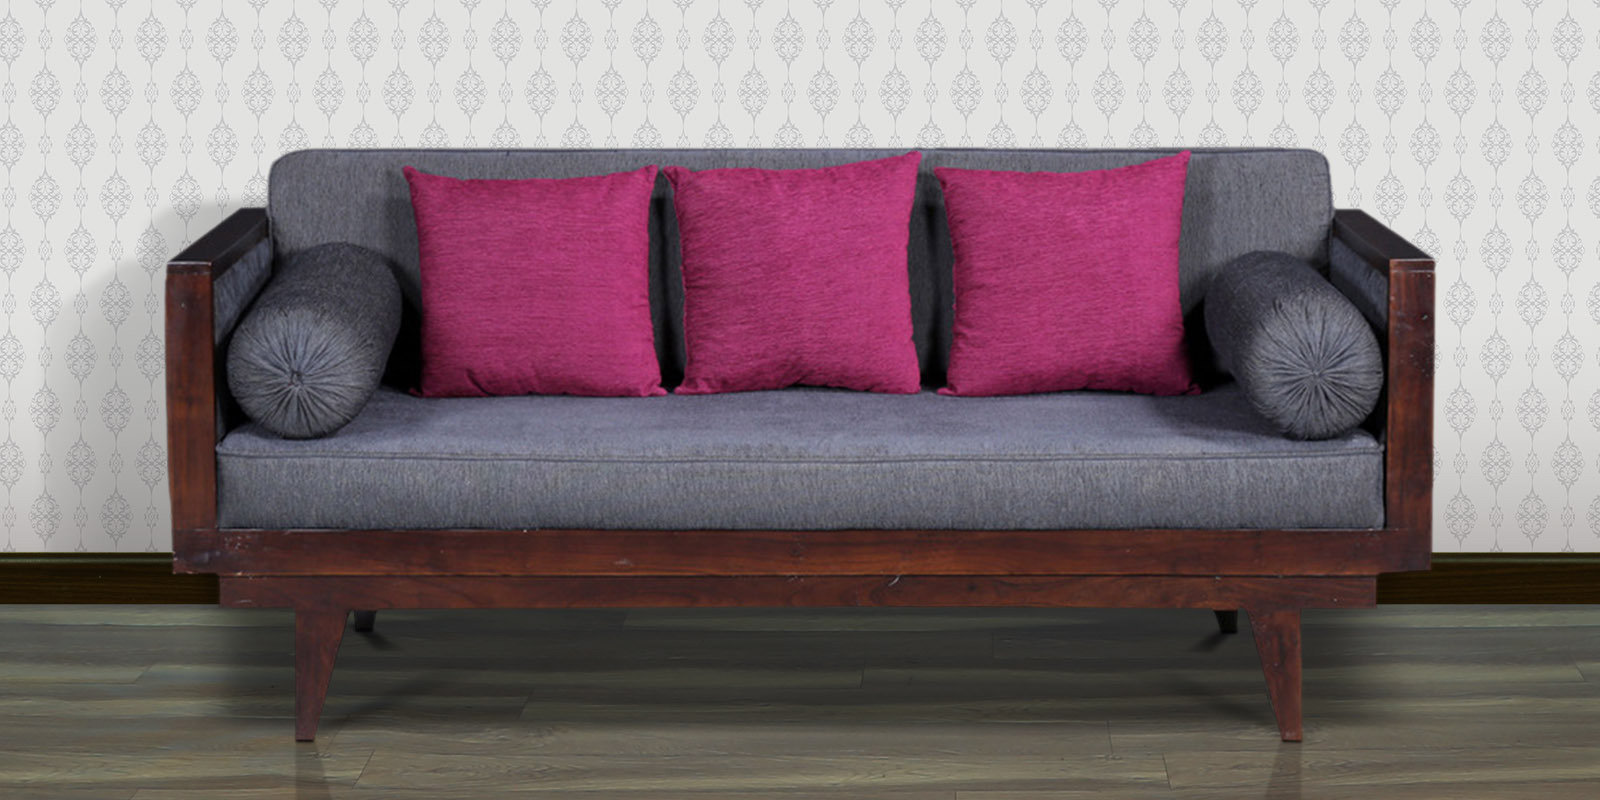Dillon Three Seater Sofa in Passion Mahogany Finish by Woodsworth: (152, 137, 1455, 760)
